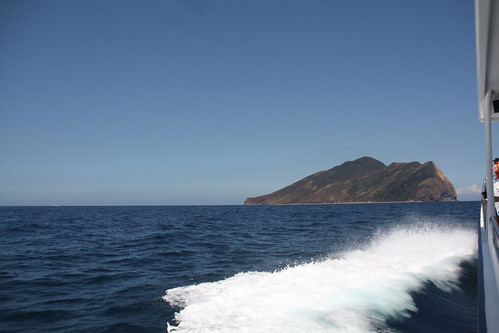turtleIsland: (246, 152, 462, 205)
